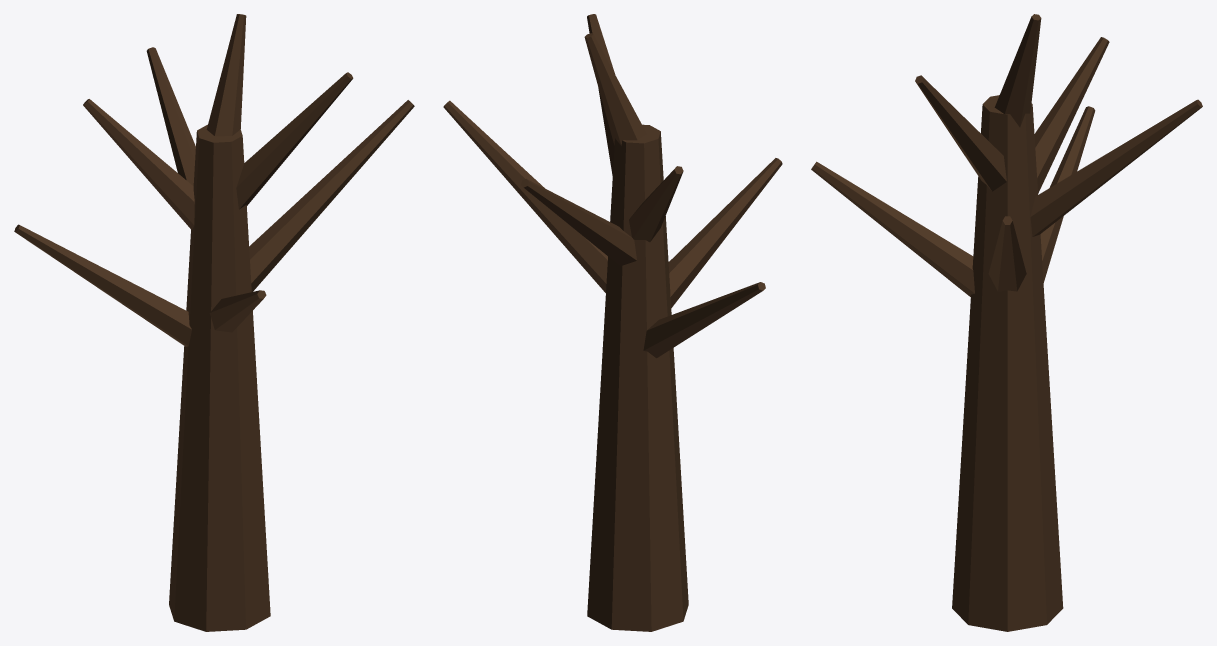
The model's file is dead_tree.glb.
3 renders of one model, left to right at view 1: azimuth 30°, elevation 25°; view 2: azimuth 150°, elevation 25°; view 3: azimuth 270°, elevation 25°, orthographic. The views are drawn at different scales.
Parts seen in each view (by area): view 1: dead_tree; view 2: dead_tree; view 3: dead_tree.
Boxes of the visible parts, x1=… form: dead_tree: x1=14, y1=14, x2=414, y2=631; dead_tree: x1=443, y1=14, x2=782, y2=631; dead_tree: x1=811, y1=14, x2=1202, y2=631.
Size of the model in its own units: 1.58 by 2.42 by 1.41.
